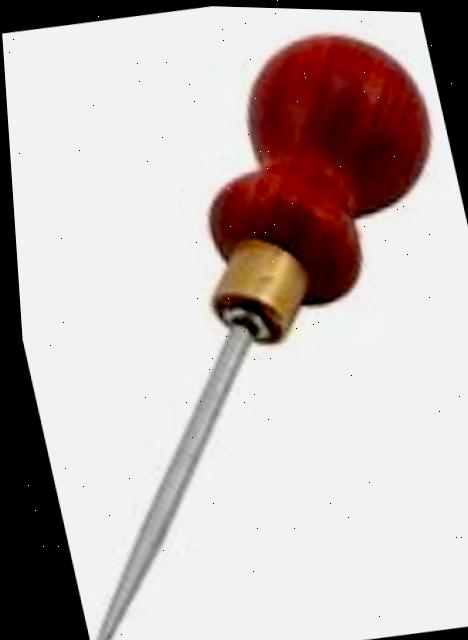ice pick: (0, 9, 468, 640)
